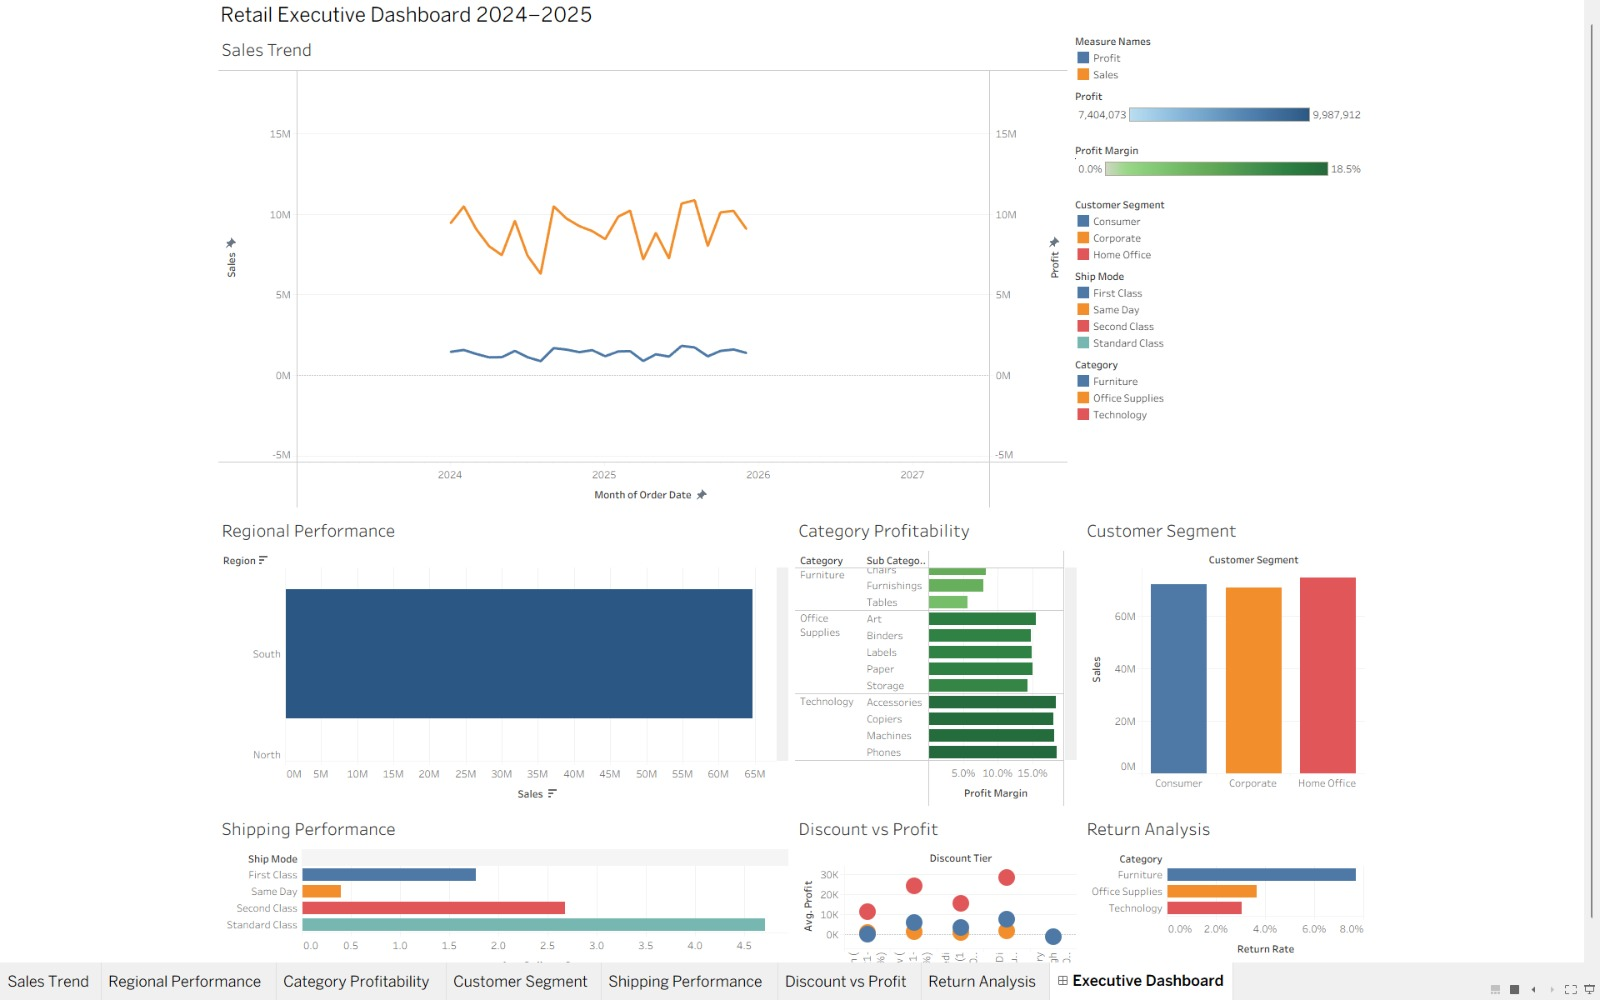

Layout of this report page (visuals, bound fields, positions):
{"tool":"tableau","page":{"name":"Executive Dashboard","canvas":[1400,1200],"ordinal":0},"visuals":[{"type":"title","box":[8,8,1384,39]},{"type":"worksheet","title":"Sales Trend","mark":"Line","rows":["sales","profit"],"cols":["order_date"],"box":[8,47,1028,576.8]},{"type":"legend","title":"Sales Trend","param":"[federated.0ez4wu303mls02156jnfx1x38vfp].[:Measure Names]","box":[1036,47,356,66]},{"type":"legend","title":"Regional Performance","param":"[federated.0ez4wu303mls02156jnfx1x38vfp].[sum:profit:qk]","box":[1036,113,356,65]},{"type":"legend","title":"Category Profitability","param":"[federated.0ez4wu303mls02156jnfx1x38vfp].[usr:Calculation_2068197704302599:qk]","box":[1036,178,356,65]},{"type":"legend","title":"Customer Segment","param":"[federated.0ez4wu303mls02156jnfx1x38vfp].[none:customer_segment:nk]","box":[1036,243,356,86]},{"type":"legend","title":"Shipping Performance","param":"[federated.0ez4wu303mls02156jnfx1x38vfp].[none:ship_mode:nk]","box":[1036,329,356,106]},{"type":"legend","title":"Discount vs Profit","param":"[federated.0ez4wu303mls02156jnfx1x38vfp].[none:category:nk]","box":[1036,435,356,86]},{"type":"worksheet","title":"Regional Performance","mark":"Bar","rows":["region"],"cols":["sales"],"box":[8,623.8,692,357.7]},{"type":"worksheet","title":"Category Profitability","mark":"Bar","rows":["category","sub_category"],"cols":["Calculation_2068197704302599"],"box":[700,623.8,345.9,357.7]},{"type":"worksheet","title":"Customer Segment","mark":"Bar","rows":["sales"],"cols":["customer_segment"],"box":[1045.9,623.8,346.1,357.7]},{"type":"worksheet","title":"Shipping Performance","mark":"Bar","rows":["ship_mode"],"cols":["delivery_days"],"box":[8,981.5,692,210.5]},{"type":"worksheet","title":"Discount vs Profit","mark":"Circle","rows":["profit"],"cols":["Calculation_2068197697372165"],"box":[700,981.5,345.9,210.5]},{"type":"worksheet","title":"Return Analysis","mark":"Bar","rows":["category"],"cols":["Calculation_2068197697212419"],"box":[1045.9,981.5,346.1,210.5]}]}

Visuals, with their boxes on the page's 1400x1200 design canvas (x1, y1, x2, y2). These are canvas units, not pixel positions in the 1600x1000 screenshot, which may show the page scaled, cropped or inside an application window:
title: Rect(8, 8, 1392, 47)
"Sales Trend" worksheet (Line marks): Rect(8, 47, 1036, 624)
"Sales Trend" legend: Rect(1036, 47, 1392, 113)
"Regional Performance" legend: Rect(1036, 113, 1392, 178)
"Category Profitability" legend: Rect(1036, 178, 1392, 243)
"Customer Segment" legend: Rect(1036, 243, 1392, 329)
"Shipping Performance" legend: Rect(1036, 329, 1392, 435)
"Discount vs Profit" legend: Rect(1036, 435, 1392, 521)
"Regional Performance" worksheet (Bar marks): Rect(8, 624, 700, 982)
"Category Profitability" worksheet (Bar marks): Rect(700, 624, 1046, 982)
"Customer Segment" worksheet (Bar marks): Rect(1046, 624, 1392, 982)
"Shipping Performance" worksheet (Bar marks): Rect(8, 982, 700, 1192)
"Discount vs Profit" worksheet (Circle marks): Rect(700, 982, 1046, 1192)
"Return Analysis" worksheet (Bar marks): Rect(1046, 982, 1392, 1192)
